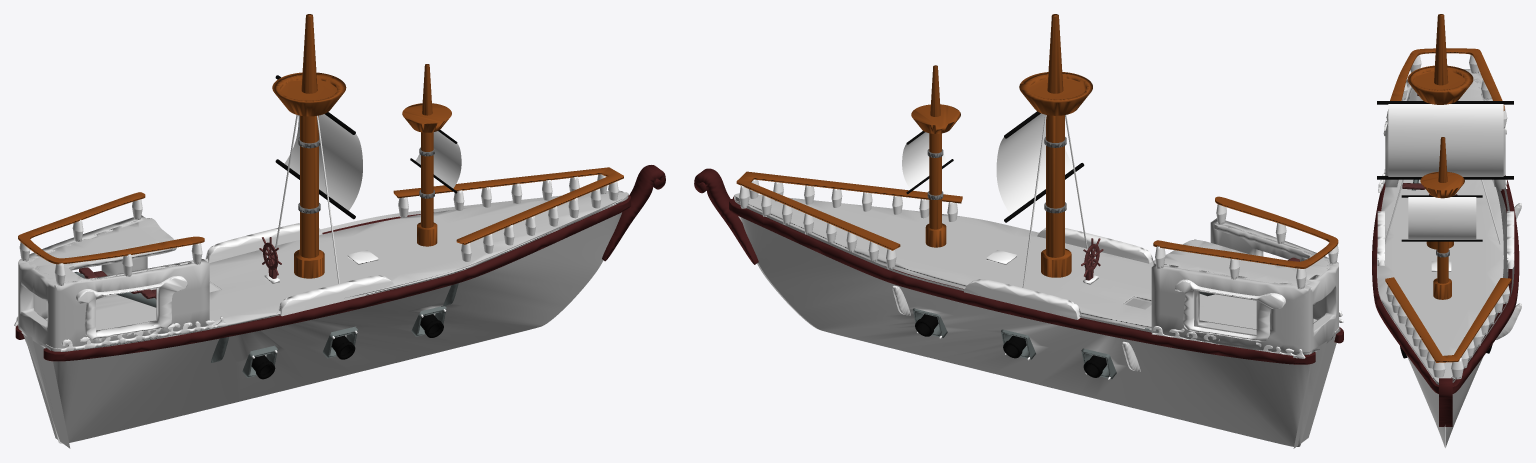
File: ship.obj
3 renders of one model, left to right at view 1: azimuth 30°, elevation 25°; view 2: azimuth 150°, elevation 25°; view 3: azimuth 270°, elevation 25°, orthographic. The views are drawn at different scales.
Parts seen in each view (by area): view 1: 3DSMesh_85, 3DSMesh_33, 3DSMesh_77, 3DSMesh_57, 3DSMesh_75, 3DSMesh_123, 3DSMesh_110, 3DSMesh_53, 3DSMesh_68, 3DSMesh_35, 3DSMesh_124, 3DSMesh_30 (+10 smaller); view 2: 3DSMesh_51, 3DSMesh_33, 3DSMesh_77, 3DSMesh_56, 3DSMesh_75, 3DSMesh_123, 3DSMesh_110, 3DSMesh_53, 3DSMesh_68, 3DSMesh_124, 3DSMesh_34, 3DSMesh_29 (+10 smaller); view 3: 3DSMesh_33, 3DSMesh_123, 3DSMesh_129, 3DSMesh_110, 3DSMesh_56, 3DSMesh_124, 3DSMesh_57, 3DSMesh_51, 3DSMesh_68, 3DSMesh_77, 3DSMesh_119, 3DSMesh_85 (+14 smaller).
Boxes of the visible parts, x1,y1,x2,y2 form: 3DSMesh_85: (43,194,628,442); 3DSMesh_33: (45,192,628,351); 3DSMesh_77: (18,215,209,348); 3DSMesh_57: (43,195,630,361); 3DSMesh_75: (28,218,193,283); 3DSMesh_123: (284,114,362,210); 3DSMesh_110: (393,167,623,244); 3DSMesh_53: (300,115,318,258); 3DSMesh_68: (18,192,204,264); 3DSMesh_35: (76,276,187,339); 3DSMesh_124: (272,72,346,116); 3DSMesh_30: (278,275,394,316); 3DSMesh_51: (734,196,1327,446); 3DSMesh_33: (734,193,1339,332); 3DSMesh_77: (1151,218,1338,354); 3DSMesh_56: (729,198,1315,364); 3DSMesh_75: (1153,222,1331,285); 3DSMesh_123: (996,113,1073,214); 3DSMesh_110: (736,171,962,250); 3DSMesh_53: (1046,115,1064,257); 3DSMesh_68: (1153,196,1338,268); 3DSMesh_124: (1019,72,1092,115); 3DSMesh_34: (1175,279,1285,341); 3DSMesh_29: (964,279,1081,319); 3DSMesh_33: (1377,179,1503,384); 3DSMesh_123: (1388,104,1503,176); 3DSMesh_129: (1408,197,1476,239); 3DSMesh_110: (1385,277,1511,362); 3DSMesh_56: (1452,175,1519,393); 3DSMesh_124: (1407,65,1473,104); 3DSMesh_57: (1372,182,1438,393); 3DSMesh_51: (1445,187,1514,447); 3DSMesh_68: (1390,48,1504,110); 3DSMesh_77: (1385,69,1505,191); 3DSMesh_119: (1420,171,1464,198); 3DSMesh_85: (1377,247,1445,447).
Bounding box in the file's own units: 112 × 62.98 × 25.78.
